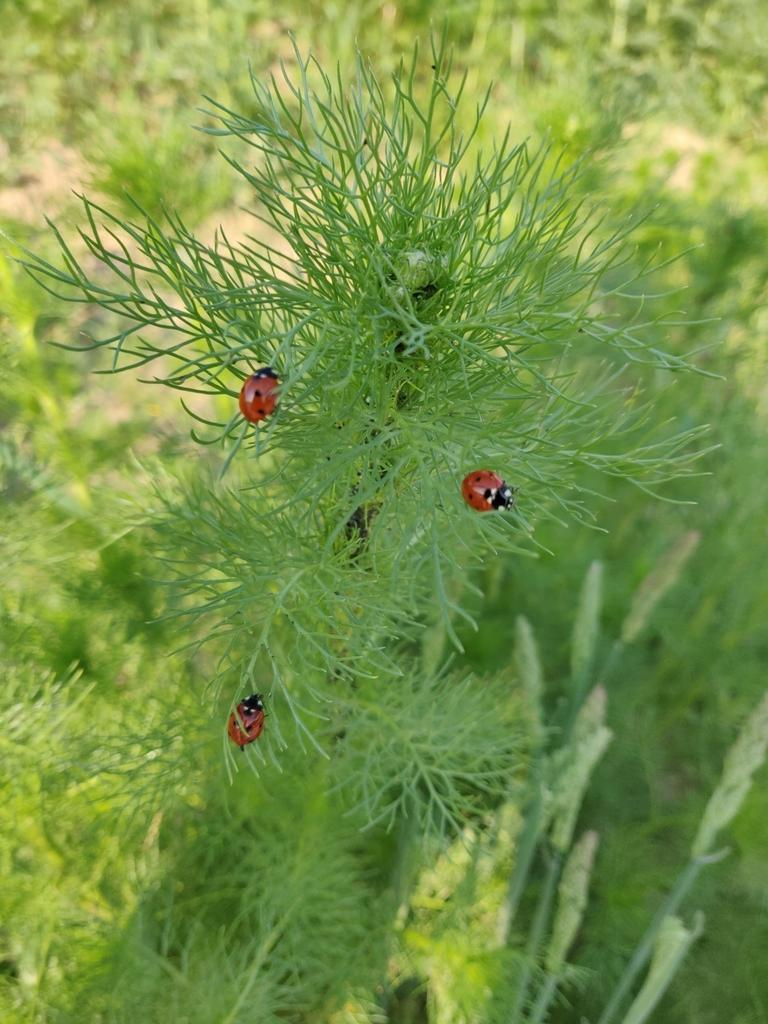ladybug: (461, 469, 522, 516), (238, 366, 286, 425), (227, 694, 272, 754)
